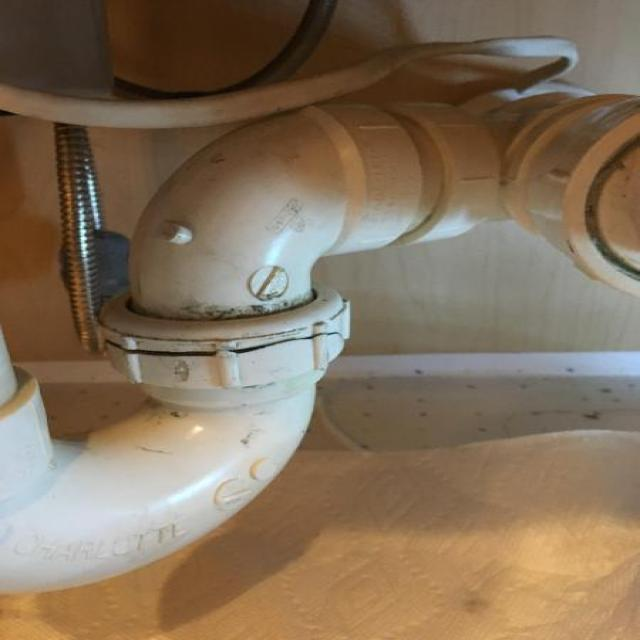crack: (132, 324, 378, 361)
